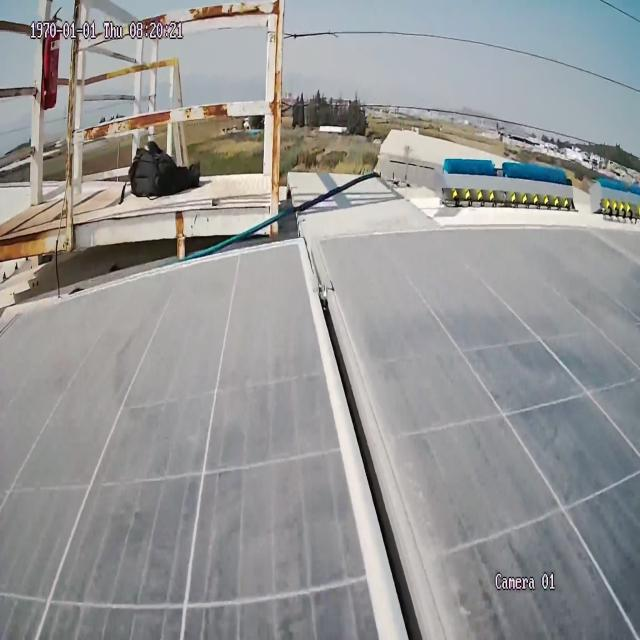interior panel: (283, 226, 511, 640)
